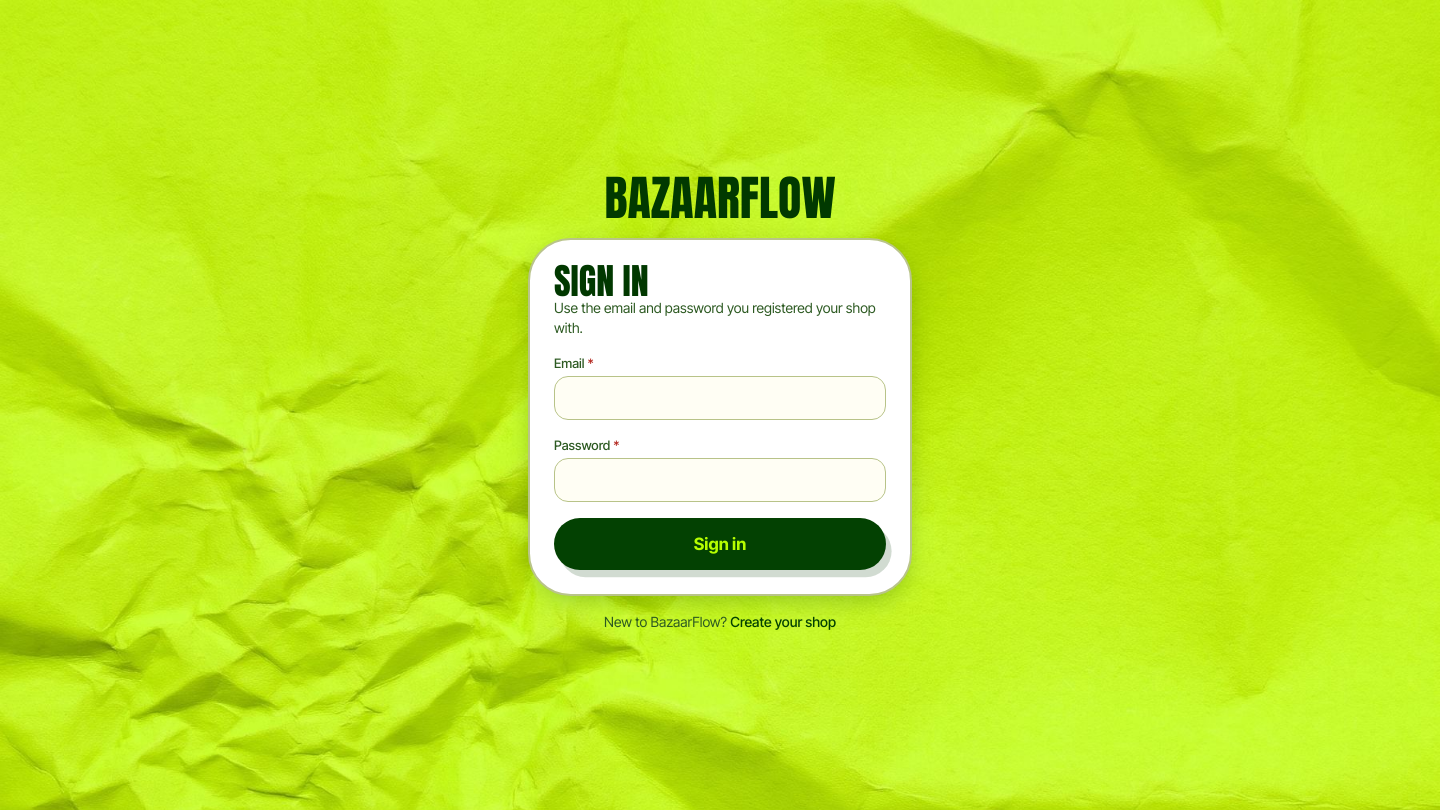
Test: sign-in follows PRD F-001, one test per rule › a locked account explains it in words
Type "owner@example.com" into the field labelled "Email *" at coordinates (720, 398), box [554,376,886,420]
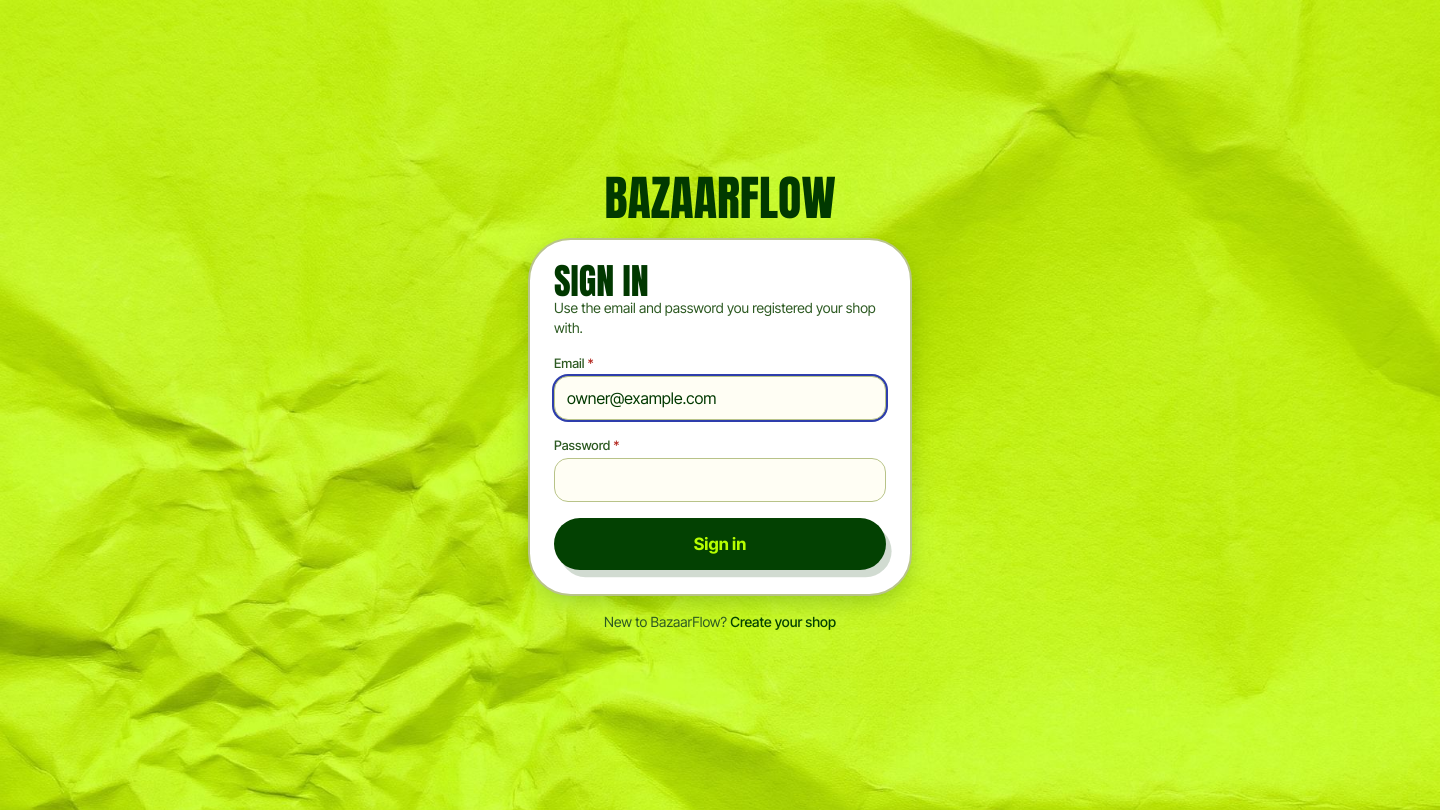
Type "12345678" into the password field labelled "Password *" at coordinates (720, 480), box [554,458,886,502]
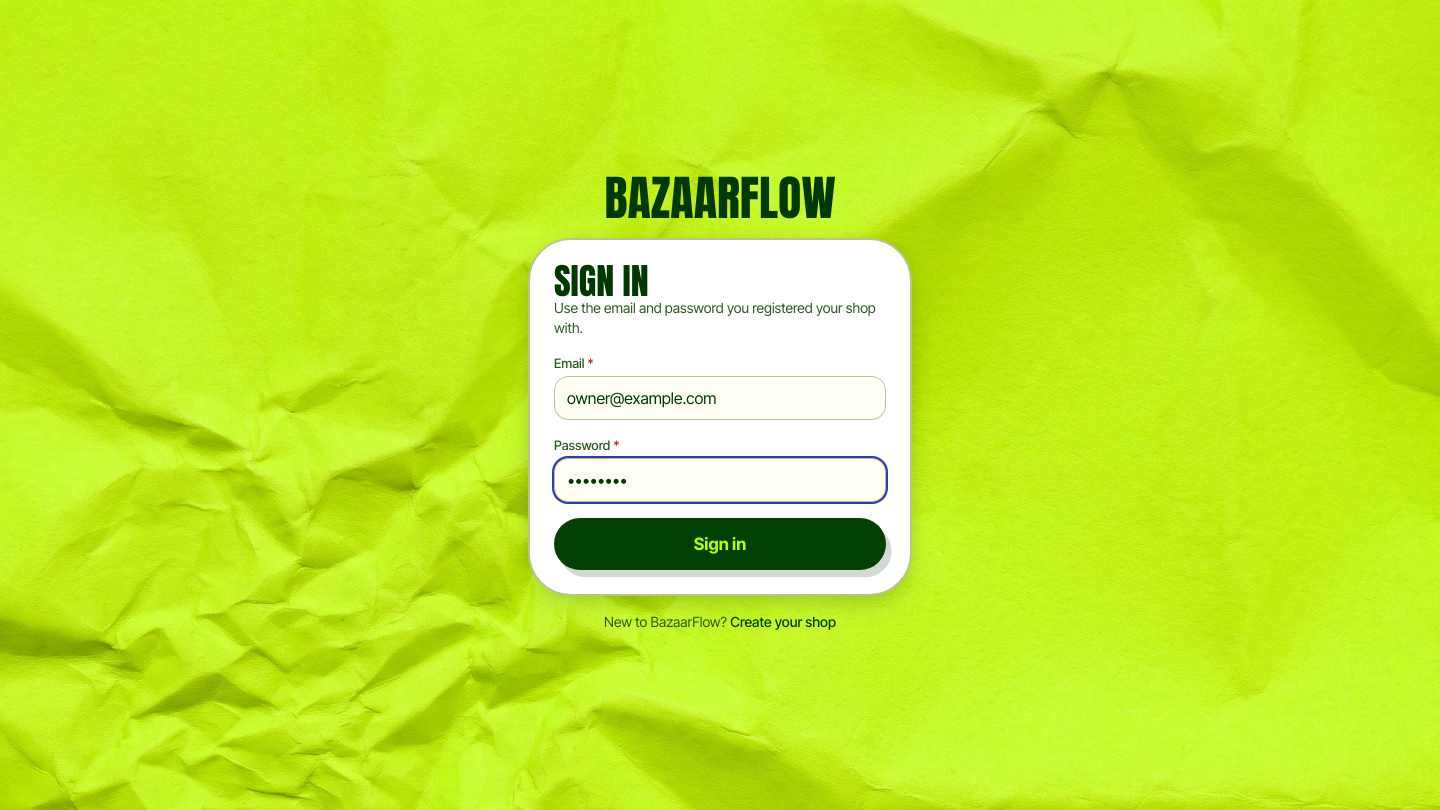
Click the button "Sign in" at coordinates (720, 544), box [554,518,886,570]
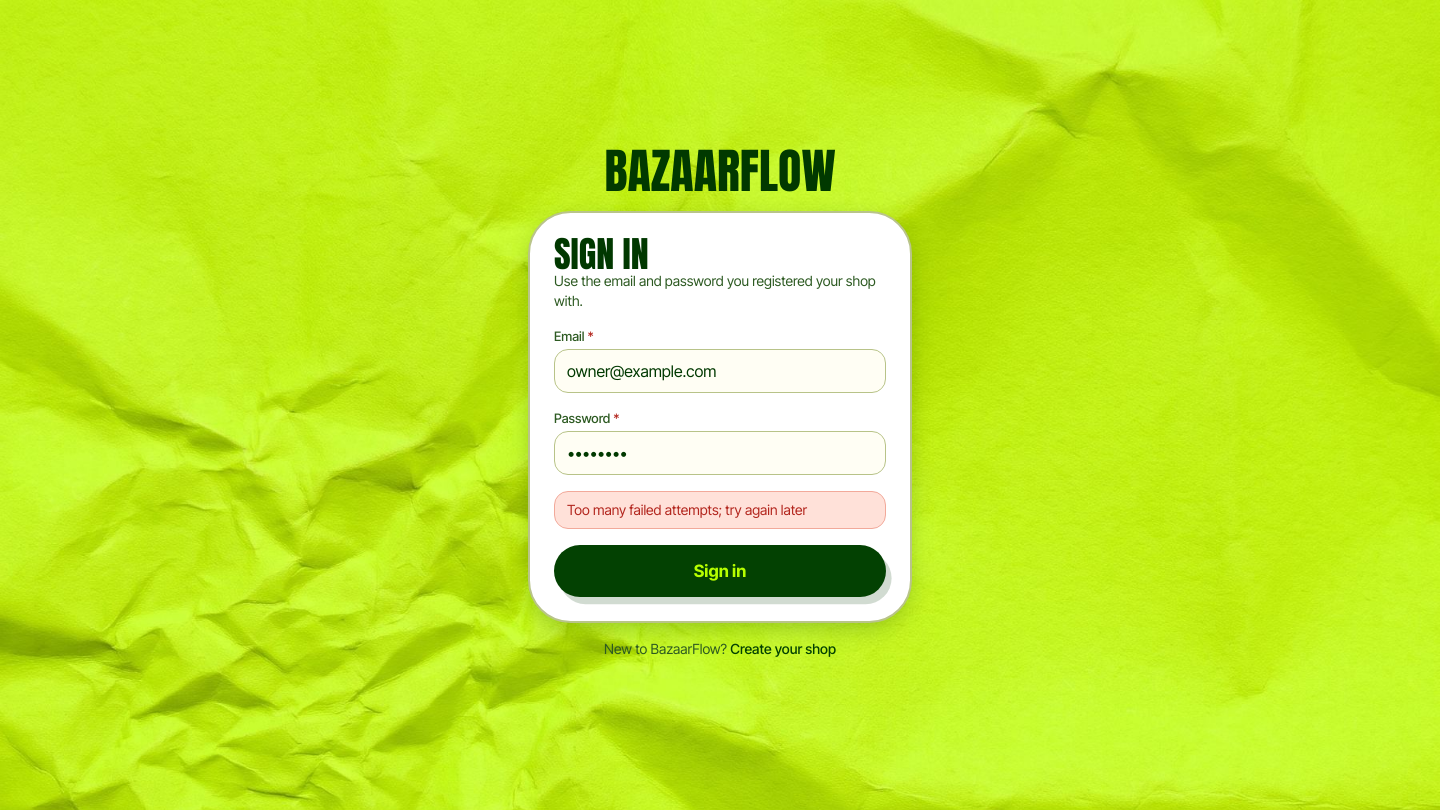
expect the message shows "Too many failed attempts": met, box [567,501,807,518]
